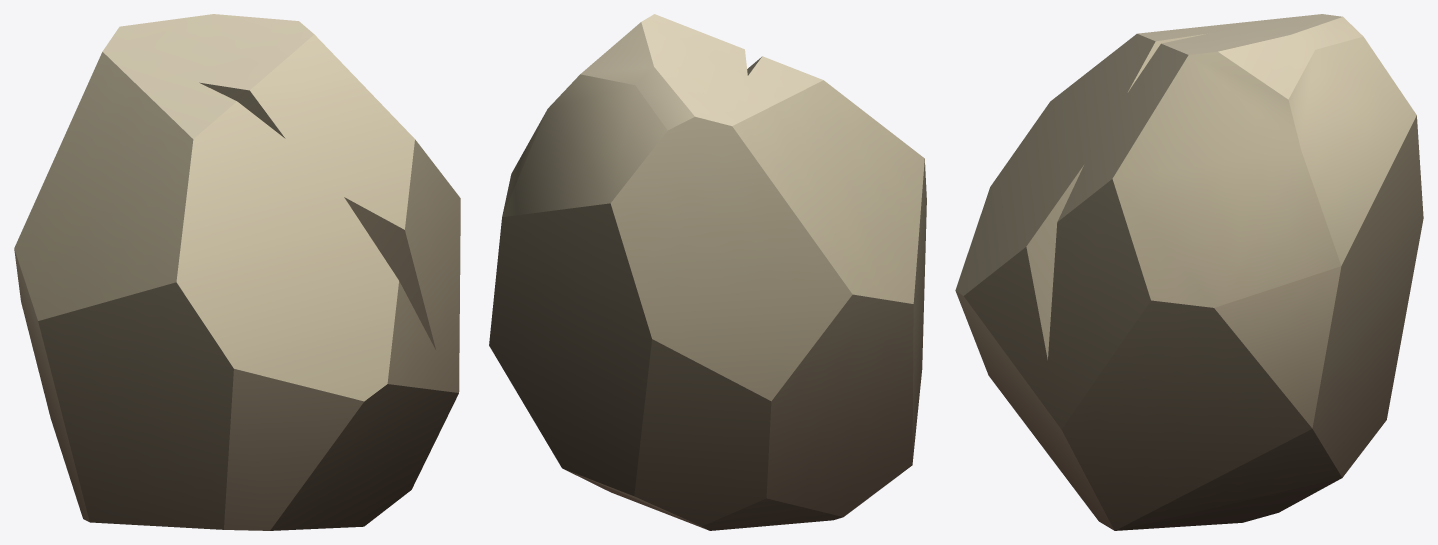
The model's file is Rock_Medium_1A.fbx.
3 views of the same model, side by side, from view 1: azimuth 30°, elevation 25°; view 2: azimuth 150°, elevation 25°; view 3: azimuth 270°, elevation 25° (orthographic). The views are drawn at different scales.
Parts seen in each view (by area): view 1: Rock_Medium_1A; view 2: Rock_Medium_1A; view 3: Rock_Medium_1A.
Part boxes in pixels (x1,y1,x2,y2): Rock_Medium_1A: (14,14,460,530); Rock_Medium_1A: (489,14,926,530); Rock_Medium_1A: (955,14,1423,530).
Size of the model in its own units: 161 by 182 by 161.
